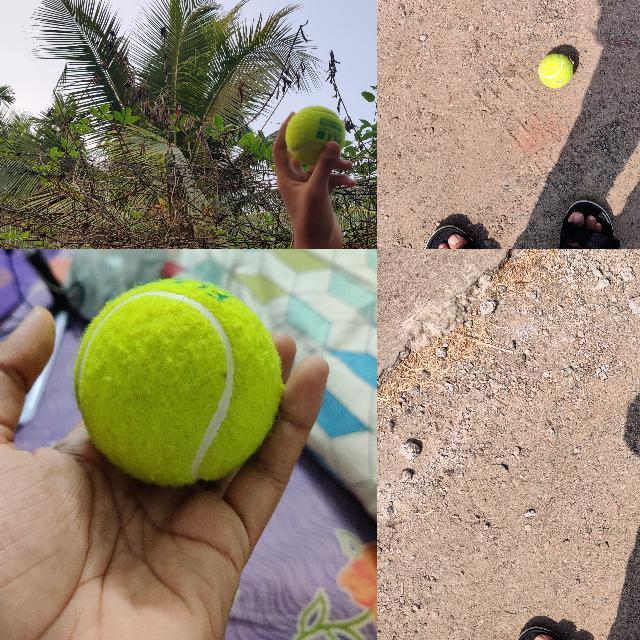tennis-ball: (73, 278, 286, 487), (284, 105, 346, 167), (538, 53, 573, 87)
